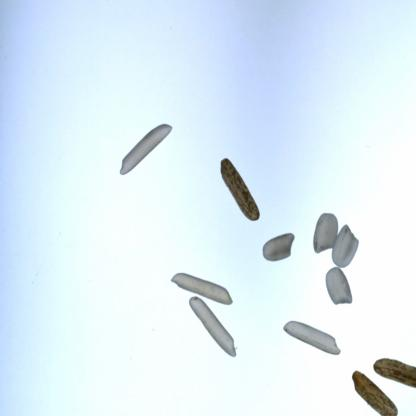Full: (110, 107, 178, 190), (207, 149, 270, 226), (180, 286, 236, 364), (342, 365, 402, 416), (282, 318, 346, 359), (164, 272, 238, 306), (353, 353, 416, 390), (254, 224, 300, 267), (318, 265, 357, 309), (329, 220, 362, 270), (311, 208, 340, 256)
